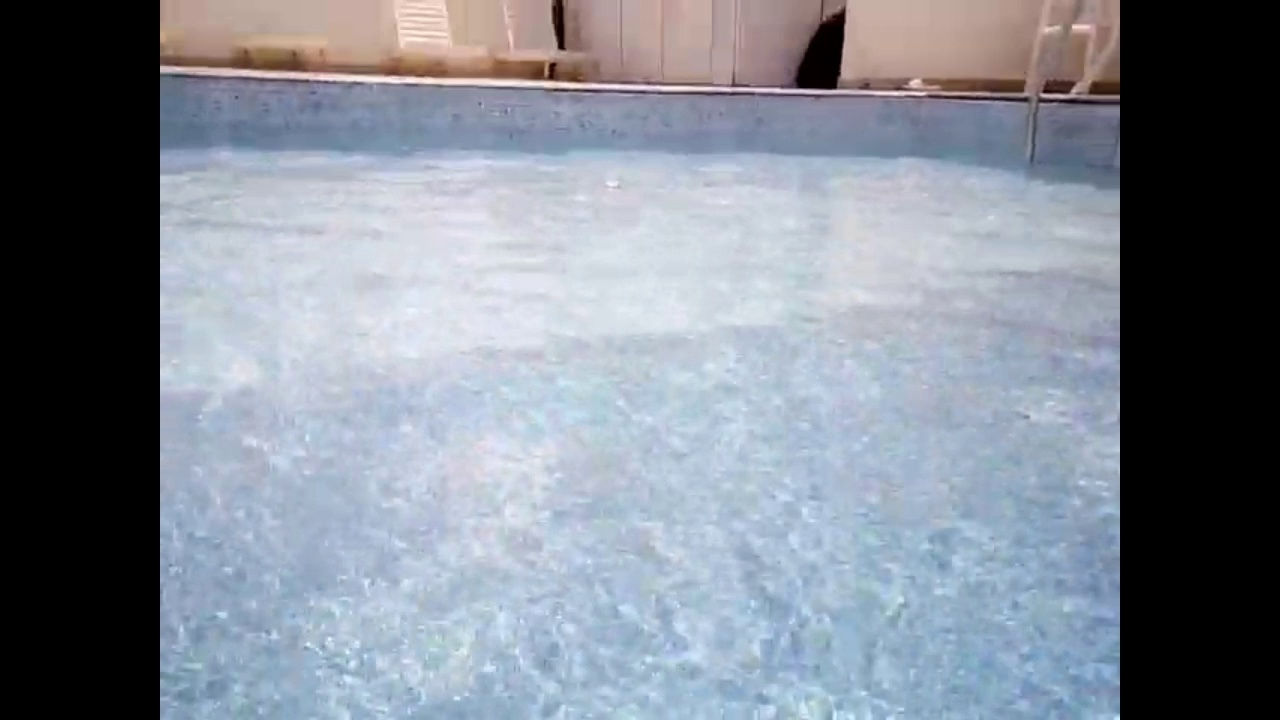debris: (602, 176, 623, 191)
